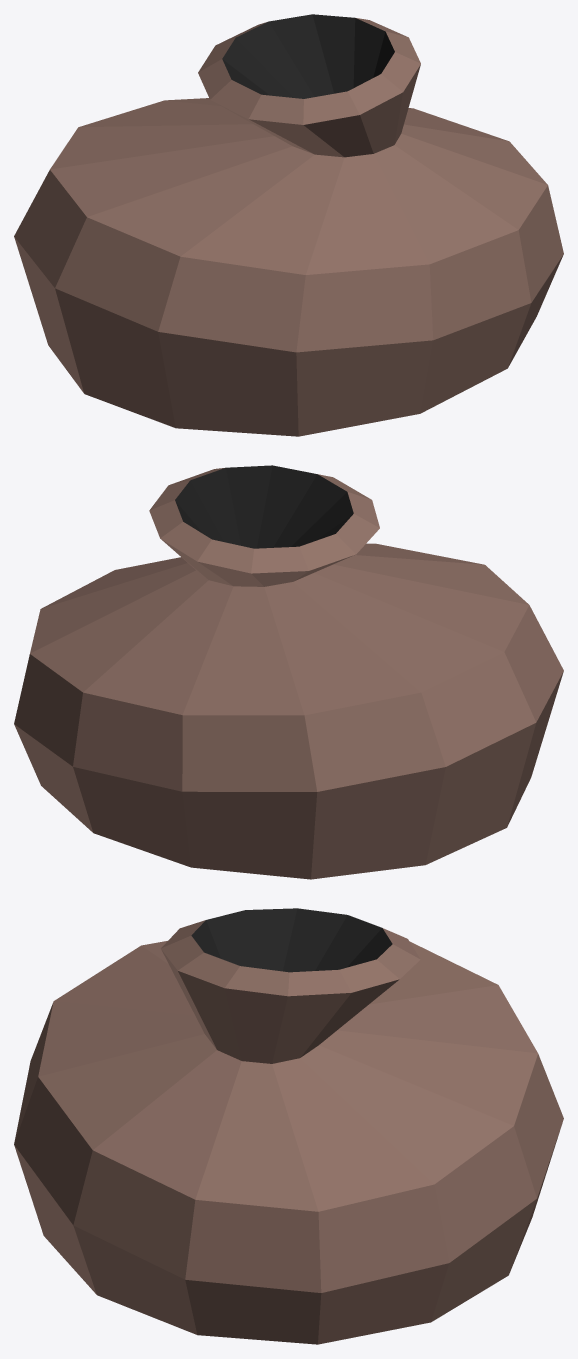
Rendered from props_029.glb.
3 renders of one model, top to bottom at view 1: azimuth 30°, elevation 25°; view 2: azimuth 150°, elevation 25°; view 3: azimuth 270°, elevation 25°, orthographic. The views are drawn at different scales.
Visible parts, largest first — view 1: props_029; view 2: props_029; view 3: props_029.
Part boxes in pixels (x1=…): props_029: x1=14, y1=14, x2=563, y2=436; props_029: x1=14, y1=465, x2=563, y2=879; props_029: x1=14, y1=908, x2=563, y2=1344.
Bounding box in the file's own units: 1.34 × 0.7354 × 1.2.
Materials: 1 (1 with a texture image).
